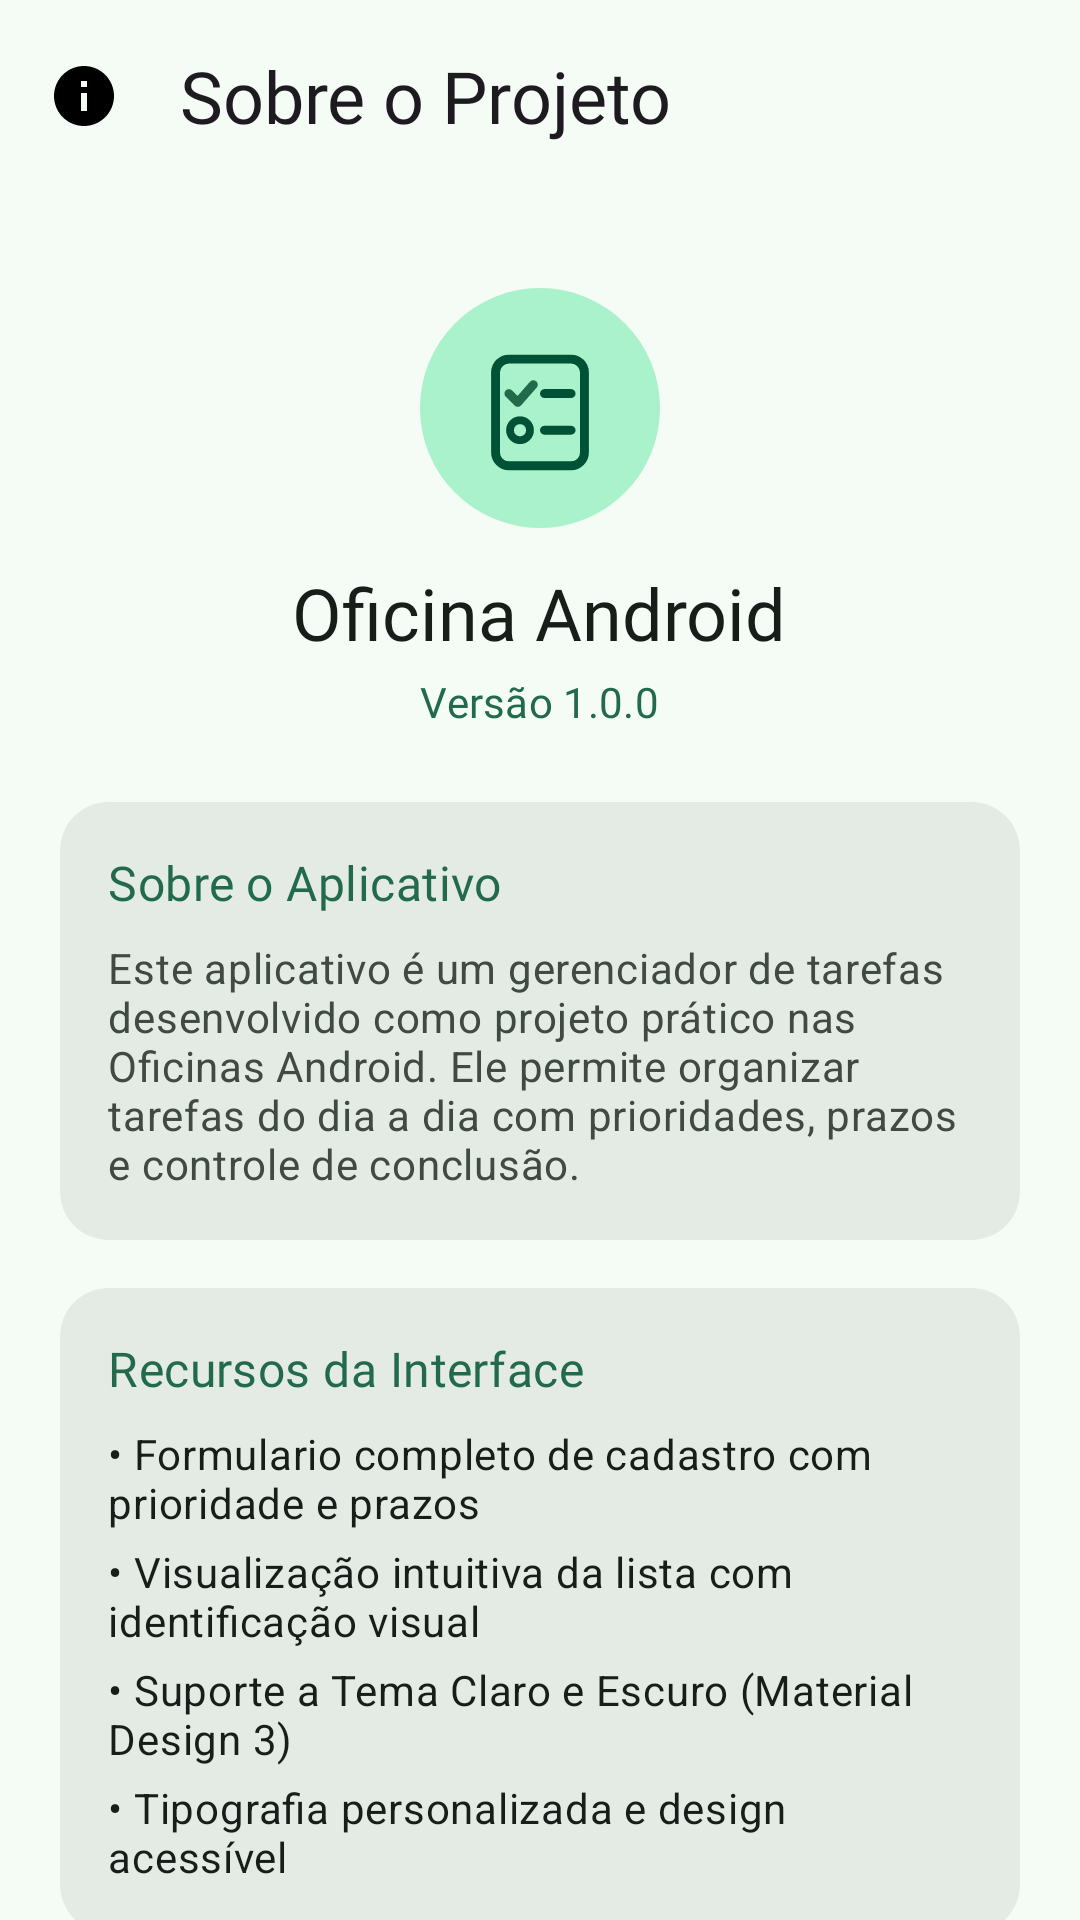

Icon click points for this 1080×1920 phone screenshot, format point (x, y):
ilustracao boas vindas: point (540, 408)
